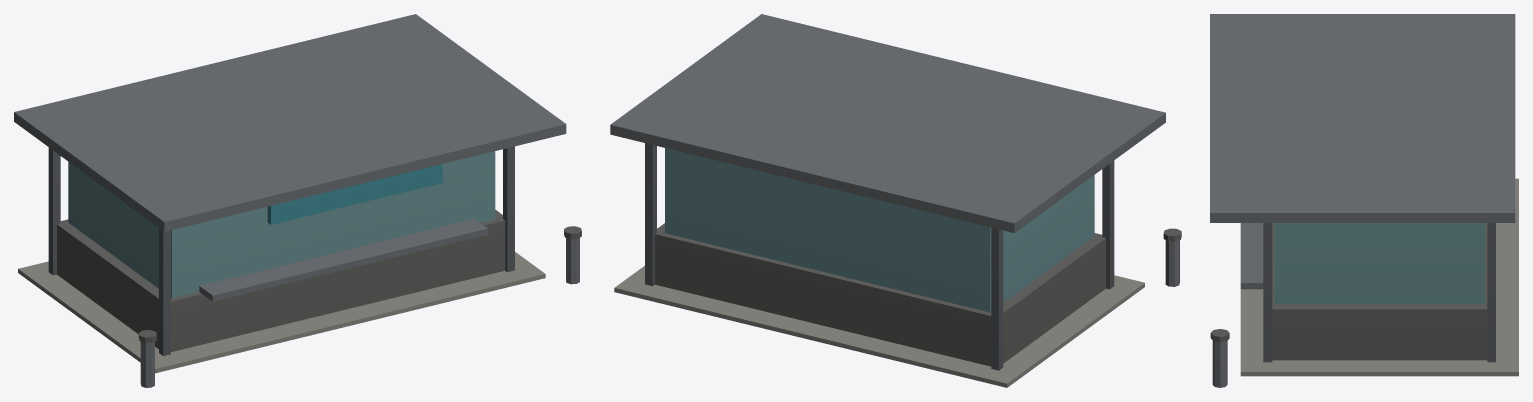
File: yard_city_kiosk.glb
The picture shows the model from 3 angles, left to right: view 1: azimuth 30°, elevation 25°; view 2: azimuth 150°, elevation 25°; view 3: azimuth 270°, elevation 25°; orthographic projection.
Parts seen in each view (by area): view 1: prop; view 2: prop; view 3: prop.
Boxes of the visible parts, x1=… form: prop: x1=14, y1=14, x2=581, y2=387; prop: x1=610, y1=14, x2=1181, y2=387; prop: x1=1210, y1=14, x2=1518, y2=387.
Bounding box in the file's own units: 7.62 × 2.7 × 4.55.
